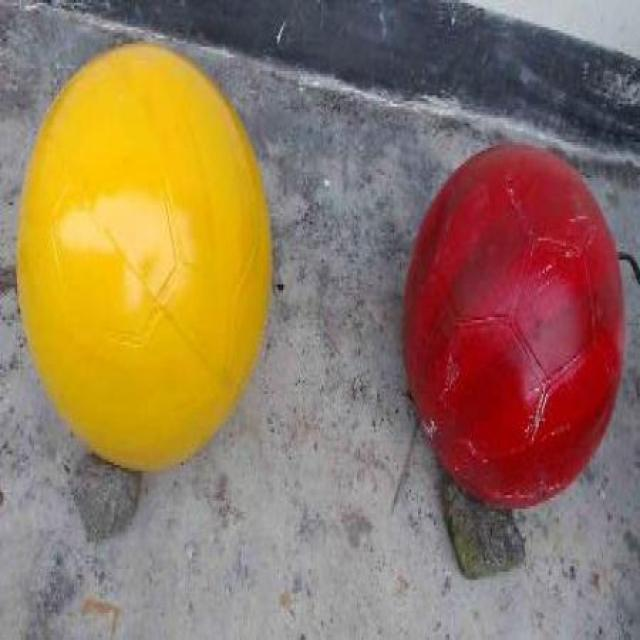buoy: (15, 38, 271, 471), (402, 143, 626, 508)
